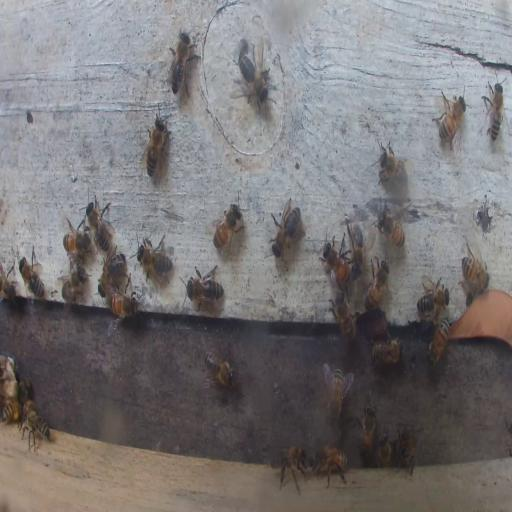bee: (235, 44, 269, 113), (269, 197, 304, 260), (433, 90, 467, 151), (270, 443, 309, 495), (184, 263, 224, 311), (143, 107, 169, 179), (136, 235, 173, 285), (168, 31, 196, 96), (309, 445, 348, 490), (325, 364, 352, 424), (84, 195, 112, 252), (322, 237, 353, 288), (212, 201, 242, 253), (20, 402, 51, 452), (483, 76, 505, 146), (203, 343, 235, 389), (416, 277, 449, 320), (18, 251, 46, 300), (377, 204, 407, 248), (377, 140, 406, 184), (331, 294, 357, 343), (364, 257, 388, 310), (98, 252, 128, 292), (462, 251, 488, 294), (427, 318, 450, 366), (397, 425, 418, 477), (61, 263, 88, 303), (62, 220, 91, 257), (358, 403, 376, 458), (371, 337, 403, 367), (348, 218, 364, 272), (109, 290, 139, 318), (376, 428, 393, 466), (0, 262, 16, 302), (16, 376, 32, 403), (3, 400, 21, 422)
